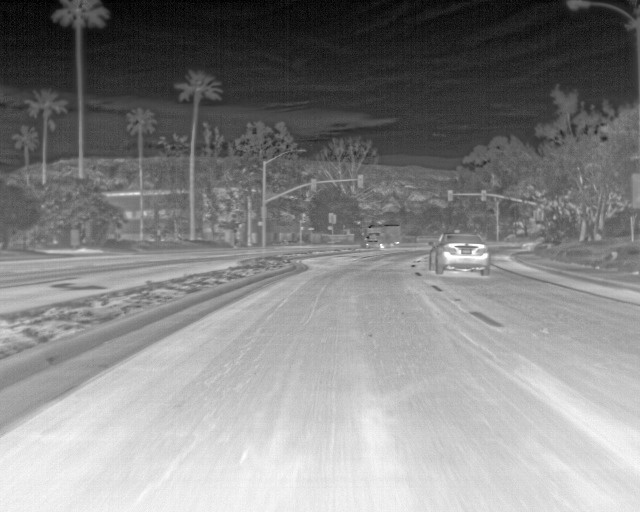vehicle: (427, 232, 495, 273)
